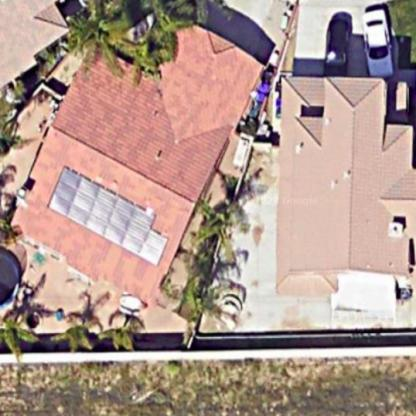car: (352, 6, 404, 82), (313, 12, 361, 76)
solar_panel: (40, 159, 170, 267)
